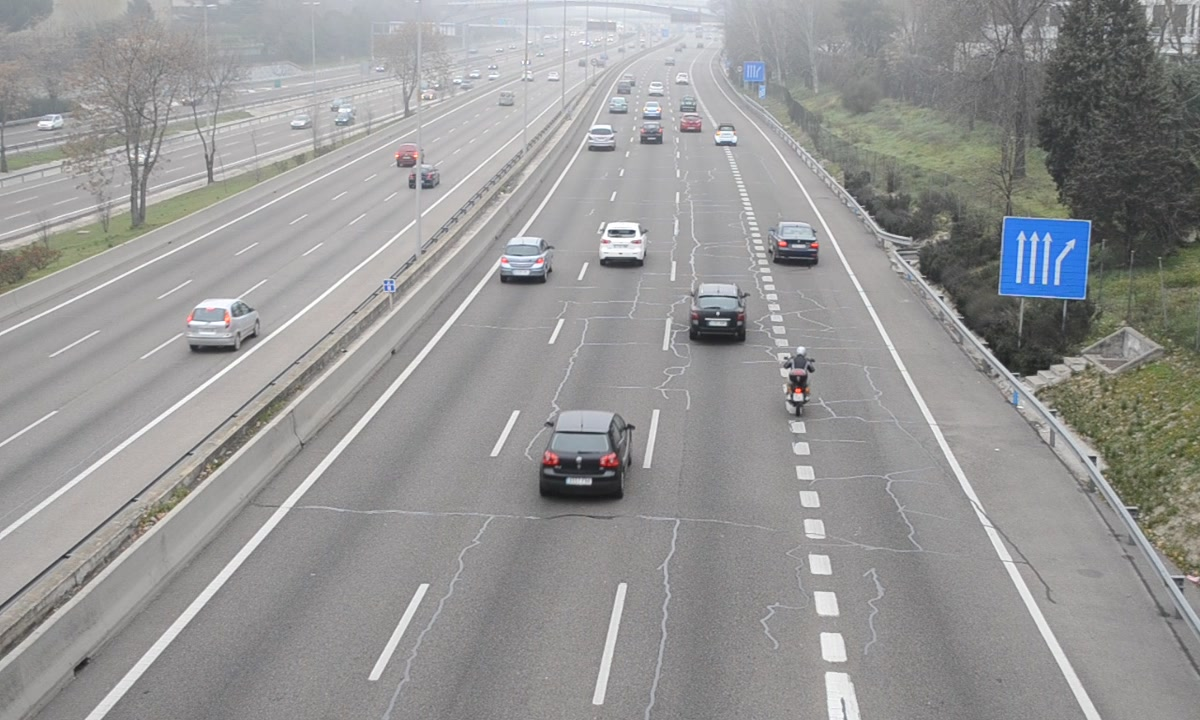car: (541, 410, 632, 492), (692, 285, 744, 340), (498, 238, 552, 281), (770, 222, 821, 265), (598, 223, 649, 264), (586, 124, 618, 153), (640, 118, 665, 145), (716, 121, 739, 148)
motorcycle: (782, 343, 818, 417)
